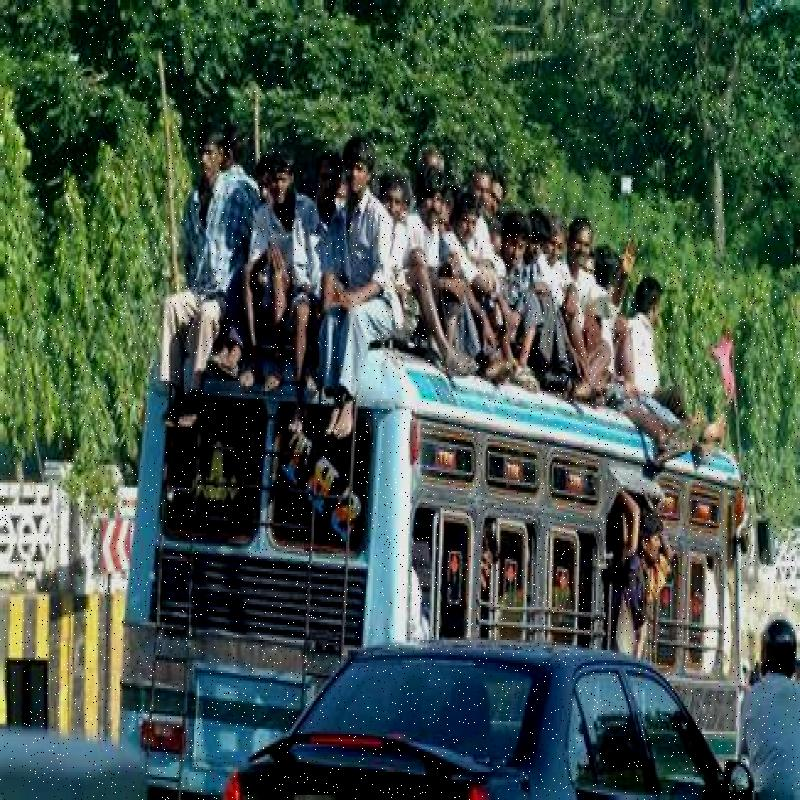bus: (135, 413, 785, 767)
